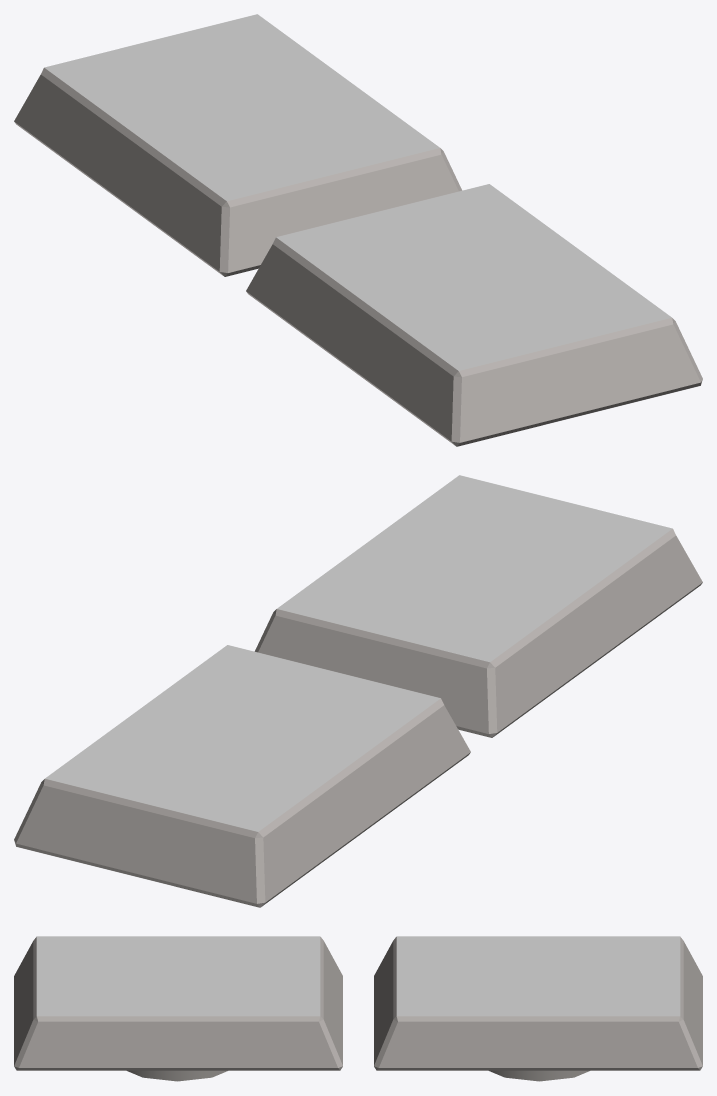
File: arrows_V2.fbx
3 renders of one model, top to bottom at view 1: azimuth 30°, elevation 25°; view 2: azimuth 150°, elevation 25°; view 3: azimuth 270°, elevation 25°, orthographic. The views are drawn at different scales.
Parts seen in each view (by area): view 1: Right PVT arrow, Left PVT arrow; view 2: Left PVT arrow, Right PVT arrow; view 3: Left PVT arrow, Right PVT arrow.
Boxes of the visible parts, x1,y1,x2,y2 form: Right PVT arrow: (246, 184, 702, 446); Left PVT arrow: (14, 14, 462, 276); Left PVT arrow: (14, 645, 470, 907); Right PVT arrow: (254, 475, 702, 737); Left PVT arrow: (374, 936, 702, 1081); Right PVT arrow: (14, 936, 342, 1081).
Bounding box in the file's own units: 0.0497 × 0.0186 × 0.1522.
